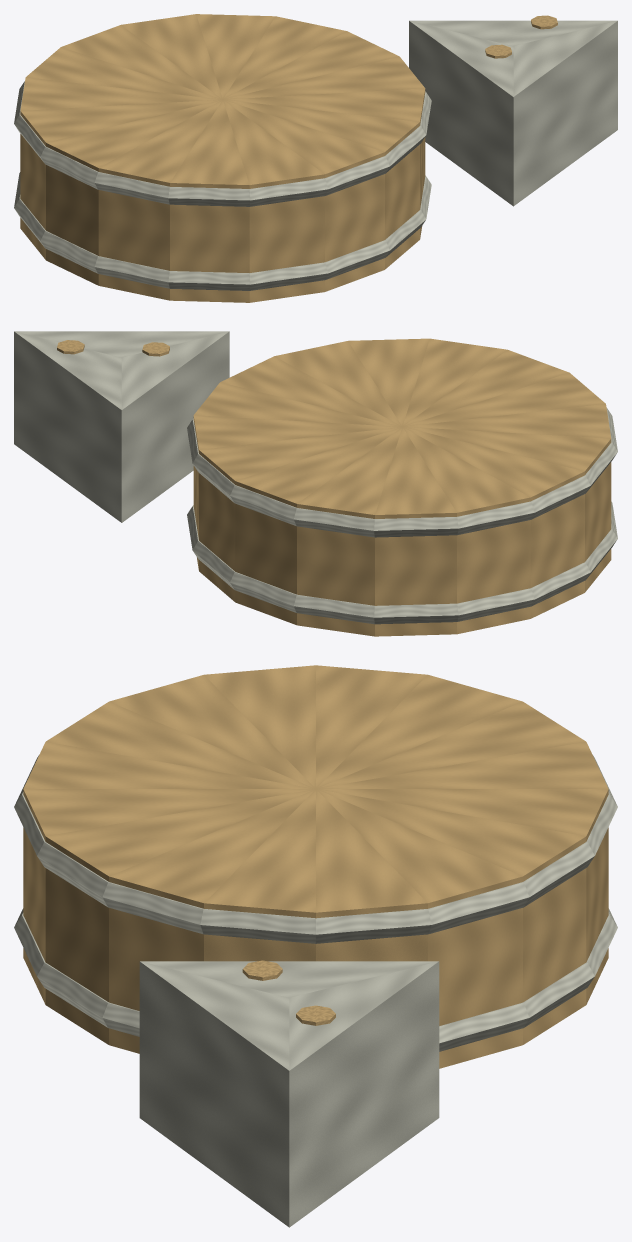
Rendered from lantern-watch-tavern-cheese-wheel__95.glb.
The picture shows the model from 3 angles, top to bottom: view 1: azimuth 30°, elevation 25°; view 2: azimuth 150°, elevation 25°; view 3: azimuth 270°, elevation 25°; orthographic projection. The views are drawn at different scales.
Parts seen in each view (by area): view 1: lantern-watch-cheese-wheel; view 2: lantern-watch-cheese-wheel; view 3: lantern-watch-cheese-wheel.
Part boxes in pixels (x1,y1,x2,y2): lantern-watch-cheese-wheel: (14, 14, 617, 302); lantern-watch-cheese-wheel: (14, 331, 617, 636); lantern-watch-cheese-wheel: (14, 665, 617, 1227).
Size of the model in its own units: 0.707 by 0.14 by 0.454.
Materials: 2 (2 with a texture image).
